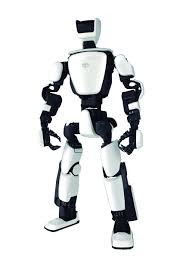person-like: (36, 13, 146, 252)
